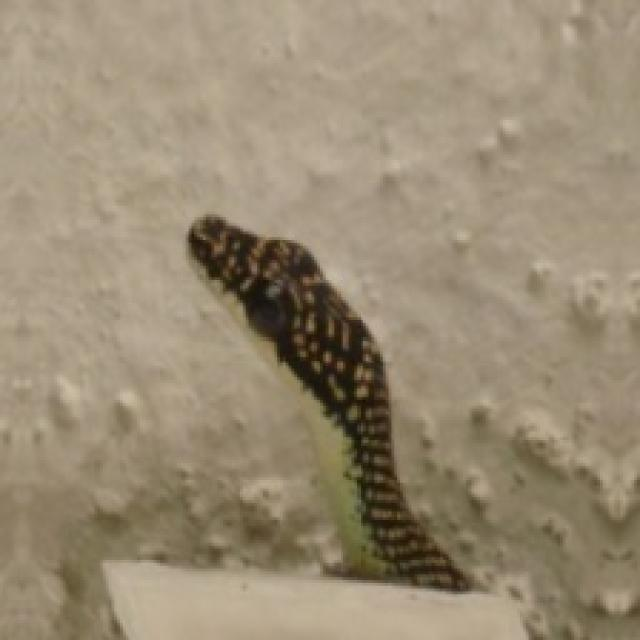paradise tree snake: (189, 214, 466, 589)
